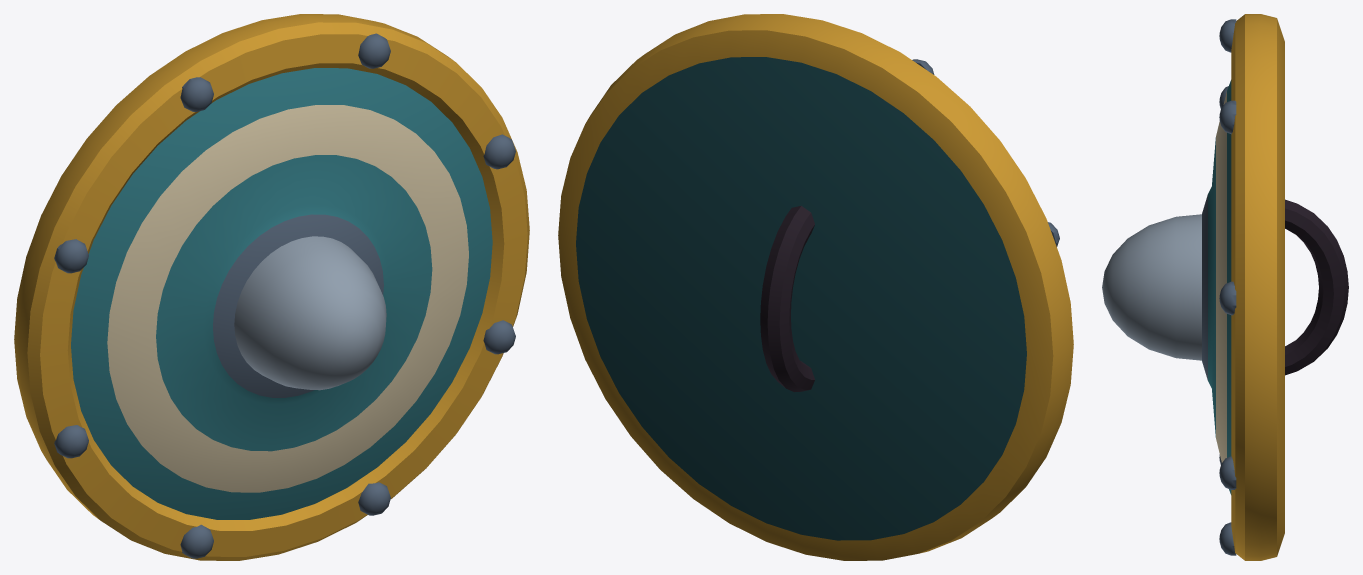
Rendered from RoundShield_05.glb.
3 views of the same model, side by side, from view 1: azimuth 30°, elevation 25°; view 2: azimuth 150°, elevation 25°; view 3: azimuth 270°, elevation 25° (orthographic). The views are drawn at different scales.
Visible parts, largest first — view 1: RoundShield_05; view 2: RoundShield_05; view 3: RoundShield_05.
Part boxes in pixels (bbox=[...]): RoundShield_05: bbox=[14, 14, 529, 560]; RoundShield_05: bbox=[558, 14, 1073, 560]; RoundShield_05: bbox=[1102, 14, 1348, 560].
Size of the model in its own units: 2.74 by 2.74 by 1.24.
